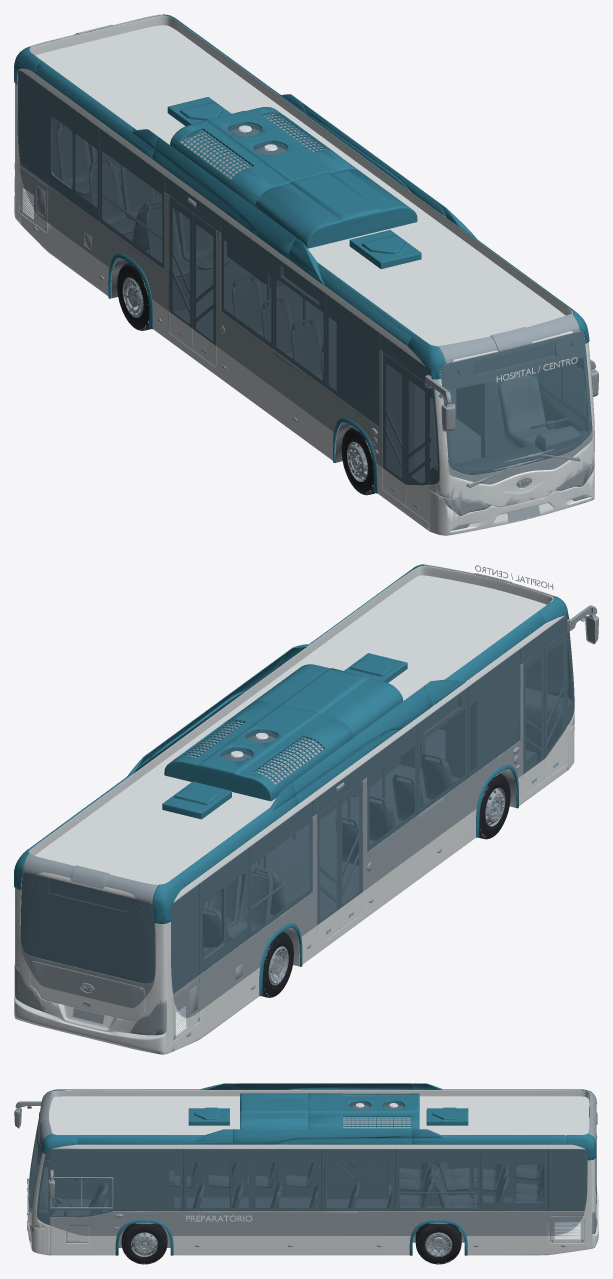
Rendered from VEH_Bus_City_20261006.glb.
The picture shows the model from 3 angles, top to bottom: view 1: azimuth 30°, elevation 25°; view 2: azimuth 150°, elevation 25°; view 3: azimuth 270°, elevation 25°; orthographic projection. The views are drawn at different scales.
Parts seen in each view (by area): view 1: VEH_Bus_City_20261006_model_30.obj, VEH_Bus_City_20261006_model_3.obj, VEH_Bus_City_20261006_model_2.obj, VEH_Bus_City_20261006_model_1.obj, VEH_Bus_City_20261006_model_6.obj, VEH_Bus_City_20261006_model_5.obj, VEH_Bus_City_20261006_model_10.obj, VEH_Bus_City_20261006_model_9.obj, VEH_Bus_City_20261006_model_7.obj, VEH_Bus_City_20261006_model_4.obj, VEH_Bus_City_20261006_model_18.obj, VEH_Bus_City_20261006_model_27.obj (+3 smaller); view 2: VEH_Bus_City_20261006_model_30.obj, VEH_Bus_City_20261006_model_3.obj, VEH_Bus_City_20261006_model_2.obj, VEH_Bus_City_20261006_model_1.obj, VEH_Bus_City_20261006_model_6.obj, VEH_Bus_City_20261006_model_5.obj, VEH_Bus_City_20261006_model_7.obj, VEH_Bus_City_20261006_model_10.obj, VEH_Bus_City_20261006_model_9.obj, VEH_Bus_City_20261006_model_4.obj, VEH_Bus_City_20261006_model_18.obj, VEH_Bus_City_20261006_model_27.obj (+3 smaller); view 3: VEH_Bus_City_20261006_model_30.obj, VEH_Bus_City_20261006_model_2.obj, VEH_Bus_City_20261006_model_6.obj, VEH_Bus_City_20261006_model_1.obj, VEH_Bus_City_20261006_model_5.obj, VEH_Bus_City_20261006_model_3.obj, VEH_Bus_City_20261006_model_10.obj, VEH_Bus_City_20261006_model_9.obj, VEH_Bus_City_20261006_model_4.obj, VEH_Bus_City_20261006_model_20.obj, VEH_Bus_City_20261006_model_23.obj, VEH_Bus_City_20261006_model_27.obj (+5 smaller).
Boxes of the visible parts, left/top/right/bottom form: VEH_Bus_City_20261006_model_30.obj: left=17, top=70, right=592, bottom=485; VEH_Bus_City_20261006_model_3.obj: left=19, top=25, right=594, bottom=535; VEH_Bus_City_20261006_model_2.obj: left=14, top=14, right=589, bottom=493; VEH_Bus_City_20261006_model_1.obj: left=14, top=15, right=594, bottom=530; VEH_Bus_City_20261006_model_6.obj: left=19, top=164, right=598, bottom=487; VEH_Bus_City_20261006_model_5.obj: left=18, top=14, right=591, bottom=484; VEH_Bus_City_20261006_model_10.obj: left=54, top=118, right=569, bottom=448; VEH_Bus_City_20261006_model_9.obj: left=90, top=190, right=587, bottom=482; VEH_Bus_City_20261006_model_7.obj: left=20, top=167, right=592, bottom=484; VEH_Bus_City_20261006_model_4.obj: left=48, top=113, right=358, bottom=462; VEH_Bus_City_20261006_model_18.obj: left=20, top=198, right=585, bottom=510; VEH_Bus_City_20261006_model_27.obj: left=36, top=195, right=430, bottom=477; VEH_Bus_City_20261006_model_30.obj: left=20, top=615, right=574, bottom=993; VEH_Bus_City_20261006_model_3.obj: left=30, top=575, right=574, bottom=1040; VEH_Bus_City_20261006_model_2.obj: left=14, top=564, right=569, bottom=996; VEH_Bus_City_20261006_model_1.obj: left=14, top=566, right=574, bottom=1054; VEH_Bus_City_20261006_model_6.obj: left=20, top=605, right=597, bottom=1010; VEH_Bus_City_20261006_model_5.obj: left=23, top=564, right=573, bottom=993; VEH_Bus_City_20261006_model_7.obj: left=21, top=615, right=598, bottom=1017; VEH_Bus_City_20261006_model_10.obj: left=21, top=701, right=477, bottom=1015; VEH_Bus_City_20261006_model_9.obj: left=23, top=688, right=572, bottom=1035; VEH_Bus_City_20261006_model_4.obj: left=183, top=721, right=516, bottom=1039; VEH_Bus_City_20261006_model_18.obj: left=48, top=697, right=558, bottom=1039; VEH_Bus_City_20261006_model_27.obj: left=244, top=687, right=562, bottom=913; VEH_Bus_City_20261006_model_30.obj: left=28, top=1101, right=596, bottom=1225; VEH_Bus_City_20261006_model_2.obj: left=41, top=1083, right=596, bottom=1255; VEH_Bus_City_20261006_model_6.obj: left=15, top=1101, right=596, bottom=1235; VEH_Bus_City_20261006_model_1.obj: left=27, top=1090, right=598, bottom=1255; VEH_Bus_City_20261006_model_5.obj: left=30, top=1090, right=597, bottom=1224; VEH_Bus_City_20261006_model_3.obj: left=27, top=1096, right=596, bottom=1255; VEH_Bus_City_20261006_model_10.obj: left=51, top=1163, right=542, bottom=1226; VEH_Bus_City_20261006_model_9.obj: left=29, top=1163, right=584, bottom=1242; VEH_Bus_City_20261006_model_4.obj: left=118, top=1095, right=550, bottom=1255; VEH_Bus_City_20261006_model_20.obj: left=415, top=1223, right=461, bottom=1264; VEH_Bus_City_20261006_model_23.obj: left=121, top=1223, right=167, bottom=1264; VEH_Bus_City_20261006_model_27.obj: left=74, top=1163, right=476, bottom=1207.
Size of the model in its own units: 2.89 by 3.19 by 12.41.
